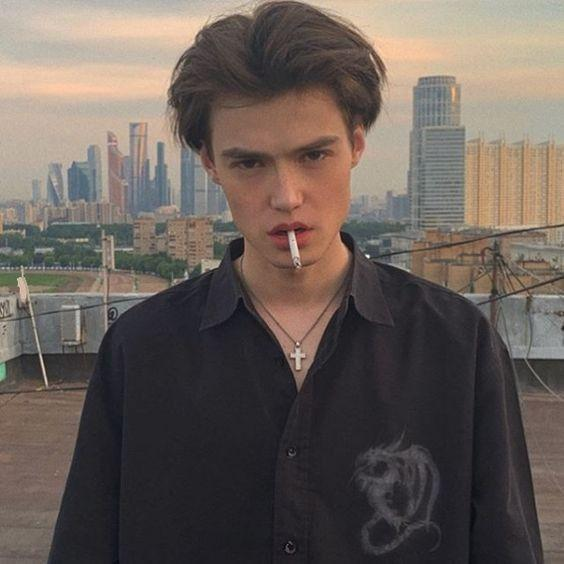cigarette: (287, 228, 302, 271)
